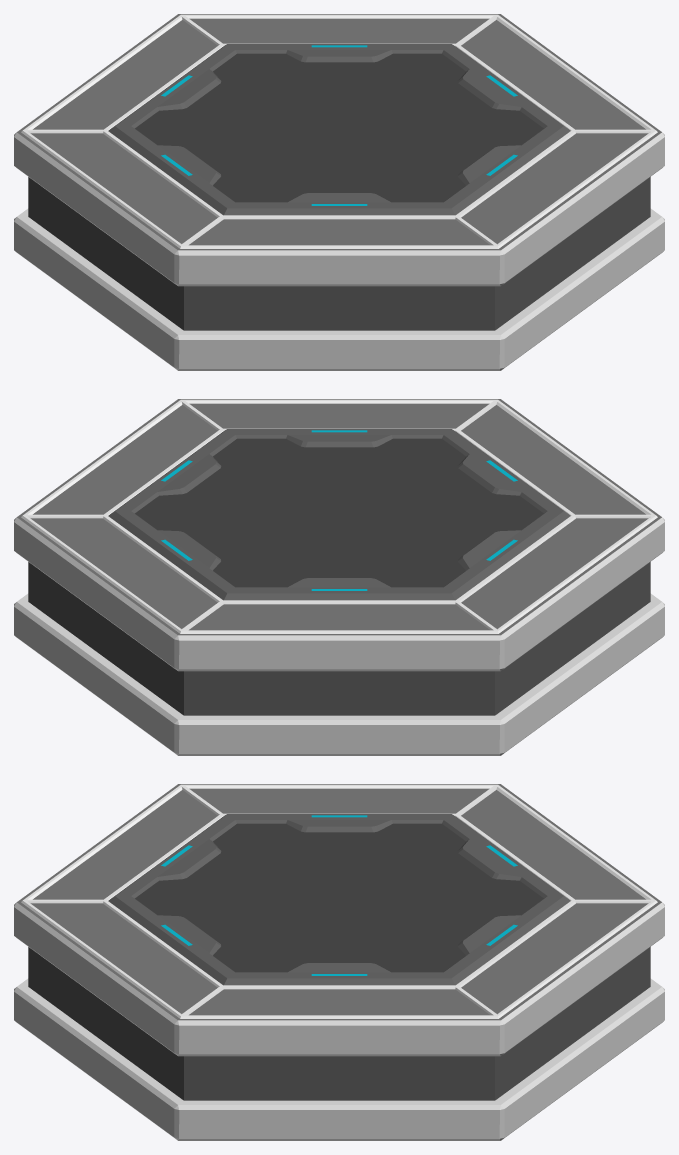
Rendered from platform_002.fbx.
The picture shows the model from 3 angles, top to bottom: view 1: azimuth 30°, elevation 25°; view 2: azimuth 150°, elevation 25°; view 3: azimuth 270°, elevation 25°; orthographic projection.
Parts seen in each view (by area): view 1: platform_002; view 2: platform_002; view 3: platform_002.
Part boxes in pixels (x1,y1,x2,y2): platform_002: (14, 14, 664, 370); platform_002: (14, 399, 664, 755); platform_002: (14, 784, 664, 1140).
Bounding box in the file's own units: 2110 × 2424 × 525.
